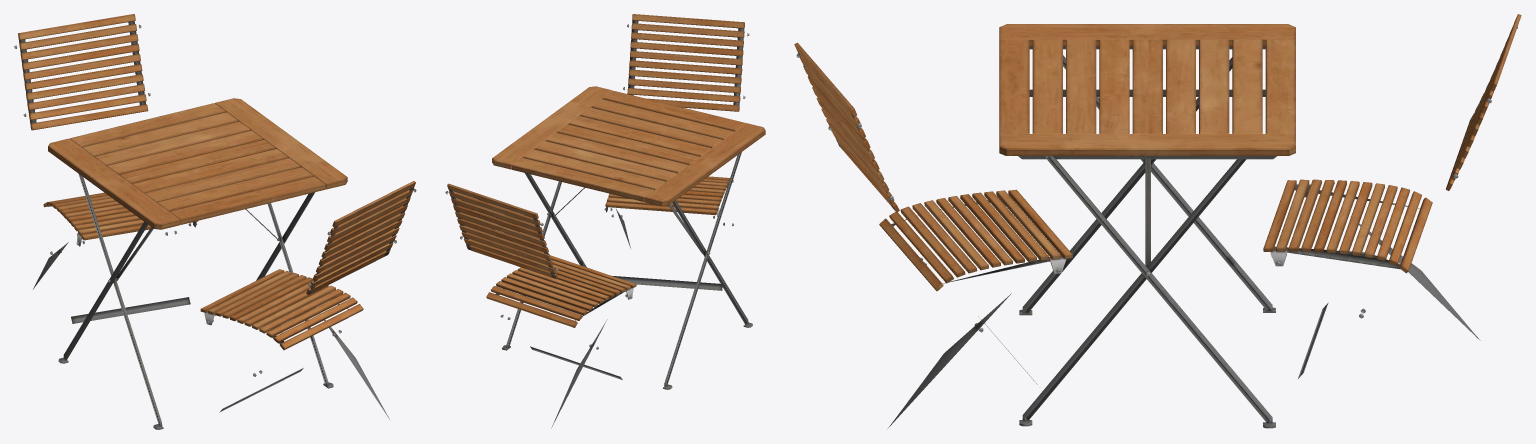
The model's file is scene-cafe.glb.
3 views of the same model, side by side, from view 1: azimuth 30°, elevation 25°; view 2: azimuth 150°, elevation 25°; view 3: azimuth 270°, elevation 25° (orthographic). The views are drawn at different scales.
Parts seen in each view (by area): view 1: outdoor_table_chair_set_01_chair_01, outdoor_table_chair_set_01_table; view 2: outdoor_table_chair_set_01_chair_01, outdoor_table_chair_set_01_table; view 3: outdoor_table_chair_set_01_table, outdoor_table_chair_set_01_chair_01.
Boxes of the visible parts, bbox=[...] form: outdoor_table_chair_set_01_chair_01: bbox=[14, 14, 416, 419]; outdoor_table_chair_set_01_table: bbox=[48, 98, 347, 429]; outdoor_table_chair_set_01_chair_01: bbox=[445, 14, 749, 428]; outdoor_table_chair_set_01_table: bbox=[492, 86, 765, 389]; outdoor_table_chair_set_01_table: bbox=[999, 24, 1295, 428]; outdoor_table_chair_set_01_chair_01: bbox=[794, 14, 1521, 427].
Size of the model in its own units: 0.7404 by 0.8468 by 1.7.
Materials: 2 (2 with a texture image).
